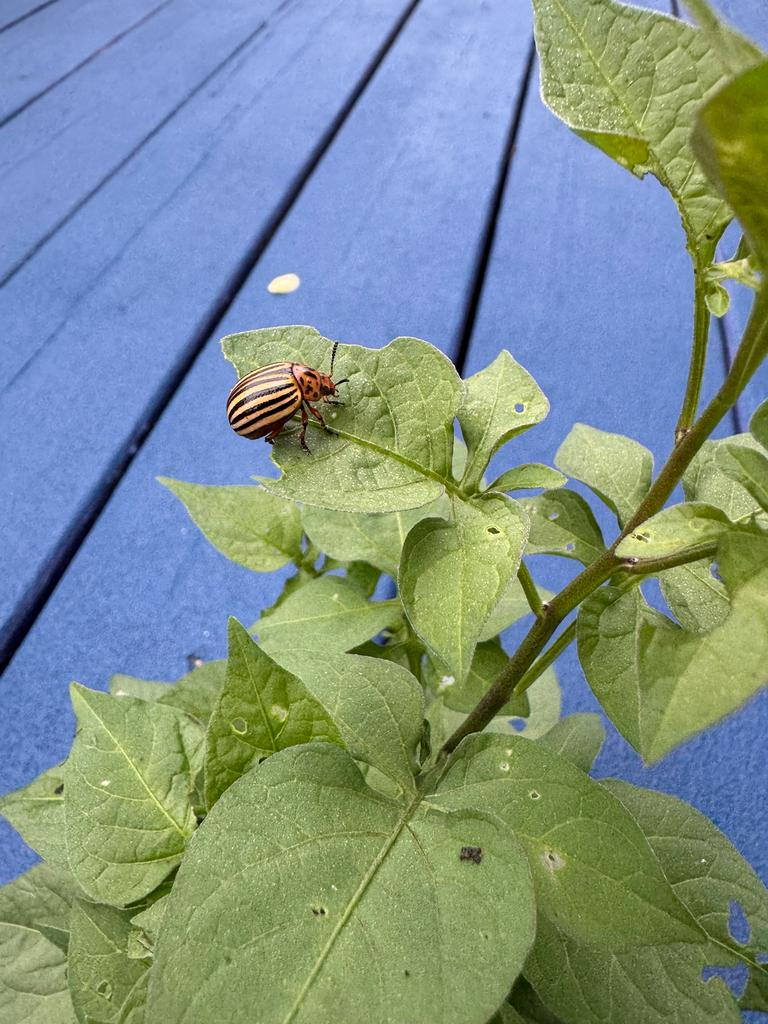potato_beetle: (190, 320, 380, 470)
